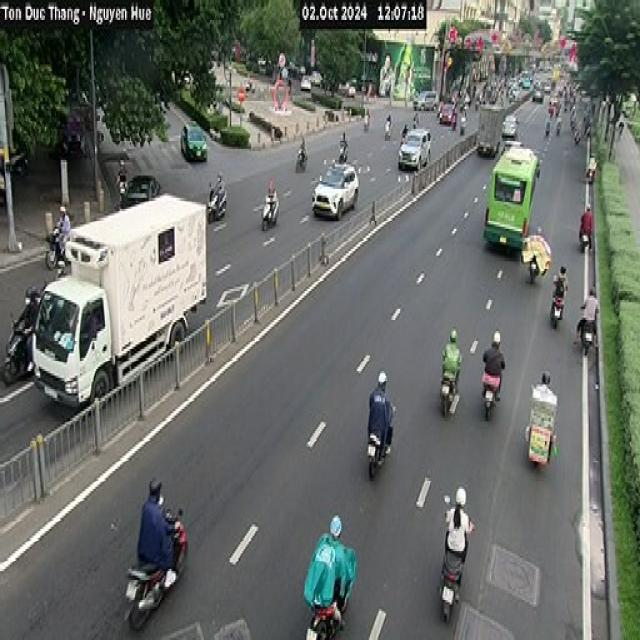bus: (482, 145, 540, 251)
car: (311, 160, 359, 218), (119, 173, 161, 209), (398, 127, 432, 171), (180, 122, 208, 162)
motorcycle: (122, 507, 188, 629), (305, 586, 350, 638), (366, 404, 395, 478), (439, 364, 460, 416), (480, 369, 501, 420), (576, 309, 598, 355), (45, 227, 67, 269), (206, 180, 226, 222), (260, 191, 279, 229), (549, 284, 565, 326)
person: (302, 513, 358, 629), (136, 475, 180, 589), (366, 369, 394, 455), (481, 329, 505, 400), (576, 284, 599, 344), (441, 327, 461, 393), (52, 205, 70, 262), (552, 264, 568, 318), (578, 202, 592, 251), (115, 158, 127, 206)
truck: (31, 189, 208, 411)
